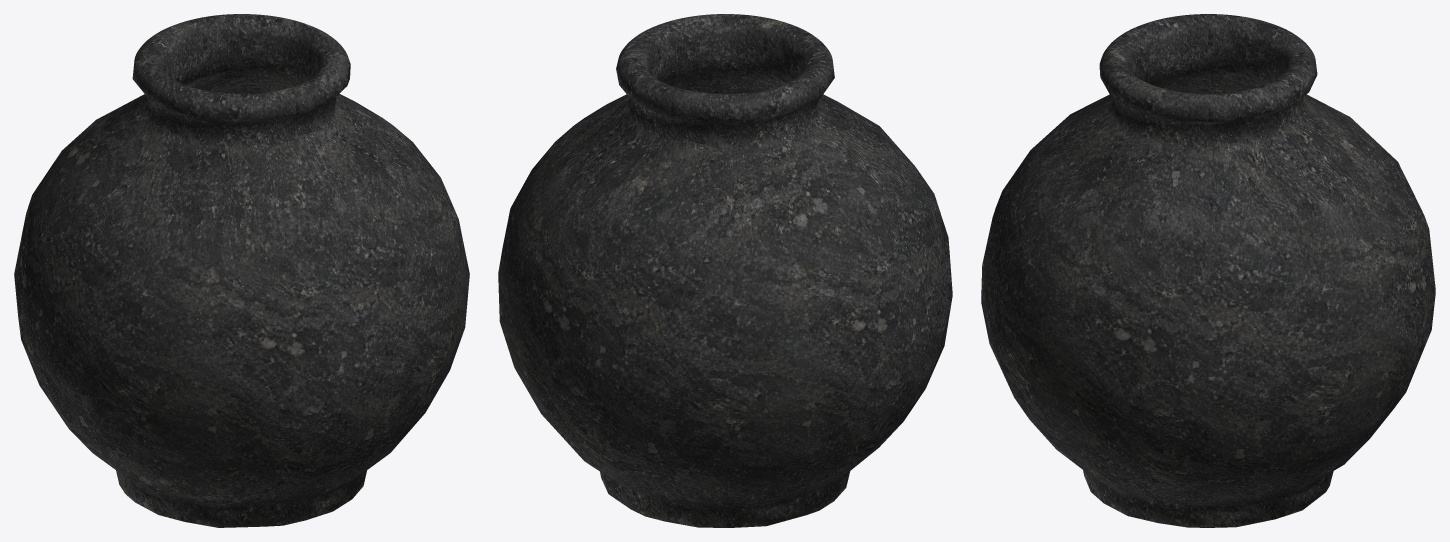
The model's file is boop-vase-large-black-detail.glb.
3 views of the same model, side by side, from view 1: azimuth 30°, elevation 25°; view 2: azimuth 150°, elevation 25°; view 3: azimuth 270°, elevation 25° (orthographic).
Visible parts, largest first — view 1: boop-vase-large-black-detail; view 2: boop-vase-large-black-detail; view 3: boop-vase-large-black-detail.
Boxes of the visible parts, box(x1,y1,x2,y2) form: boop-vase-large-black-detail: box(14, 14, 469, 527); boop-vase-large-black-detail: box(498, 14, 952, 527); boop-vase-large-black-detail: box(981, 14, 1435, 527).
Bounding box in the file's own units: 0.0322 × 0.033 × 0.0322.
Materials: 1 (1 with a texture image).
